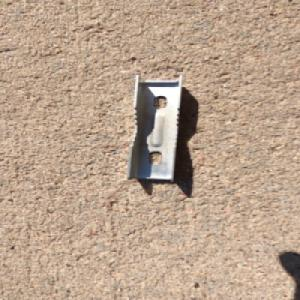ClampPart: (123, 71, 188, 184)
